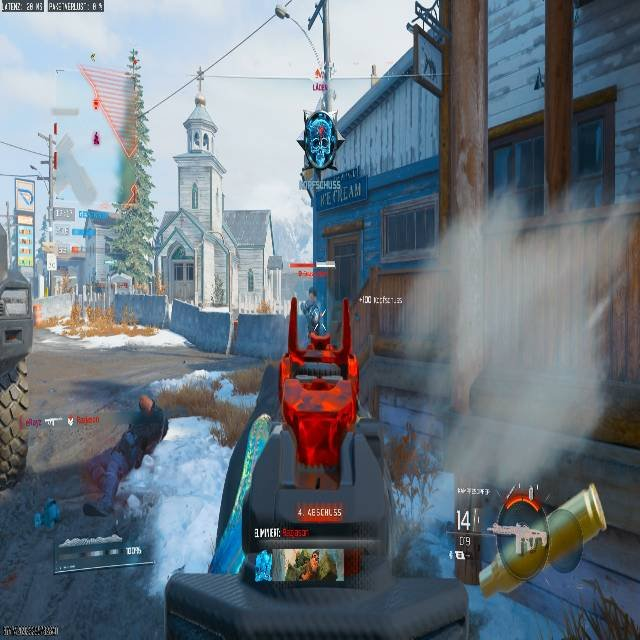head: (308, 286, 317, 299)
player: (301, 287, 322, 342)
